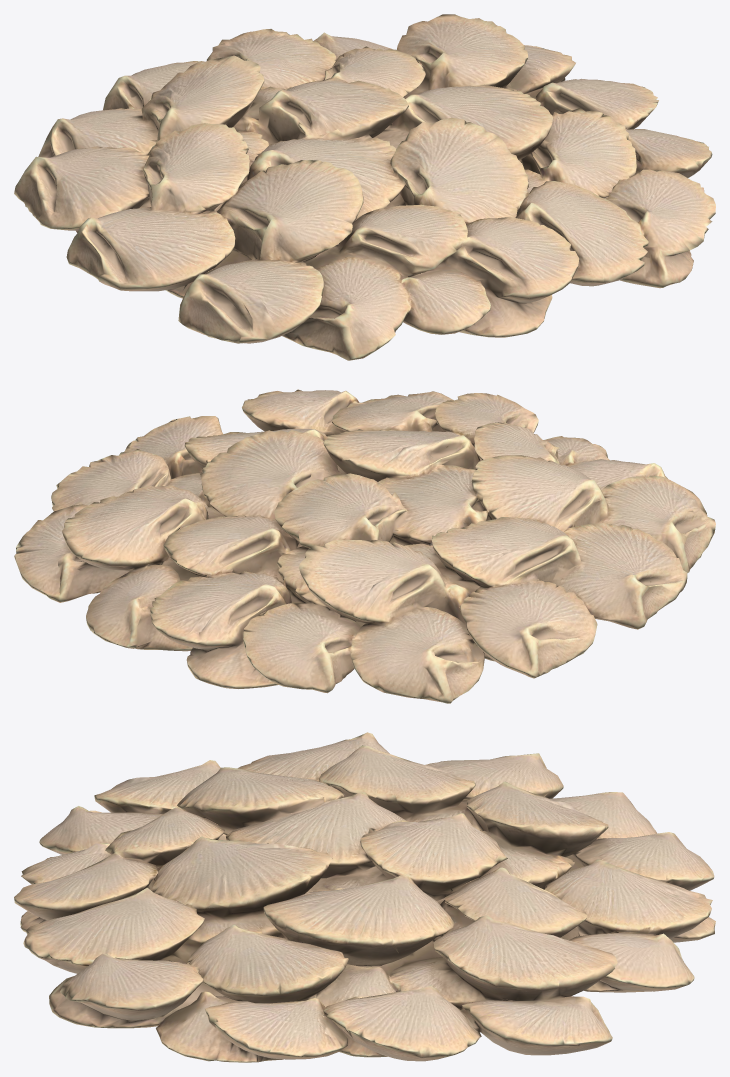
Rendered from daonella-bed.raw.glb.
3 renders of one model, top to bottom at view 1: azimuth 30°, elevation 25°; view 2: azimuth 150°, elevation 25°; view 3: azimuth 270°, elevation 25°, orthographic. The views are drawn at different scales.
Parts seen in each view (by area): view 1: tripo_node_55679608-293e-4fb4-9acf-bd712cac9982; view 2: tripo_node_55679608-293e-4fb4-9acf-bd712cac9982; view 3: tripo_node_55679608-293e-4fb4-9acf-bd712cac9982.
Boxes of the visible parts, left/top/right/bottom form: tripo_node_55679608-293e-4fb4-9acf-bd712cac9982: left=14, top=14, right=715, bottom=360; tripo_node_55679608-293e-4fb4-9acf-bd712cac9982: left=14, top=389, right=715, bottom=703; tripo_node_55679608-293e-4fb4-9acf-bd712cac9982: left=14, top=732, right=715, bottom=1062.
Bounding box in the file's own units: 1 × 0.1669 × 0.9877.
Materials: 1 (1 with a texture image).
